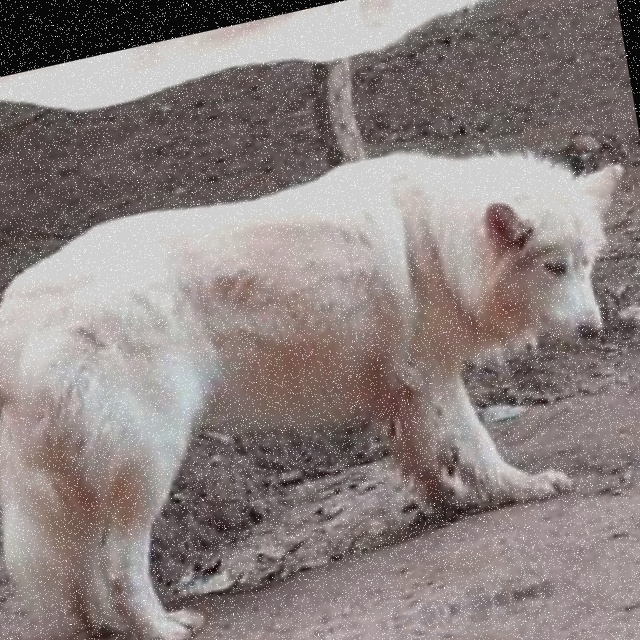dog: (0, 99, 640, 640), (0, 0, 616, 148), (30, 580, 640, 640)
